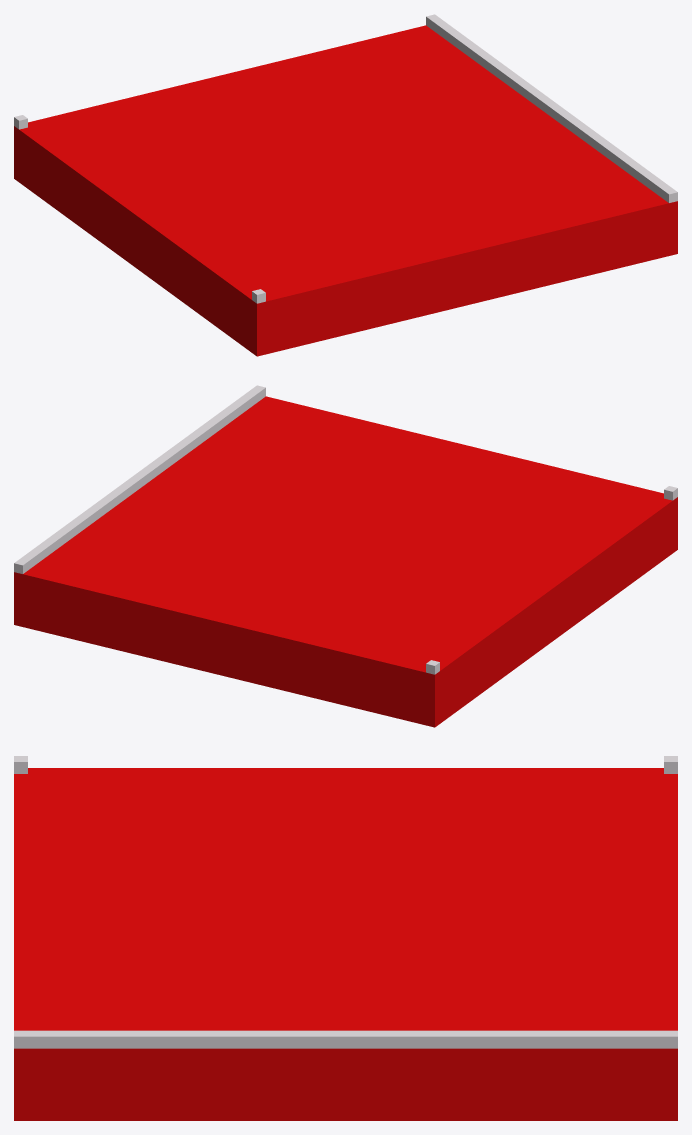
Rendered from 1side_2corner.glb.
3 views of the same model, one above another, from view 1: azimuth 30°, elevation 25°; view 2: azimuth 150°, elevation 25°; view 3: azimuth 270°, elevation 25° (orthographic). The views are drawn at different scales.
Parts seen in each view (by area): view 1: 1side_2corner, center.018; view 2: 1side_2corner, center.018; view 3: 1side_2corner, center.018.
Boxes of the visible parts, x1,y1,x2,y2 form: 1side_2corner: (14, 25, 677, 356); center.018: (426, 14, 677, 202); 1side_2corner: (14, 396, 677, 727); center.018: (14, 385, 265, 573); 1side_2corner: (14, 768, 677, 1120); center.018: (14, 1030, 677, 1048).
Bounding box in the file's own units: 1 × 0.14 × 1.
